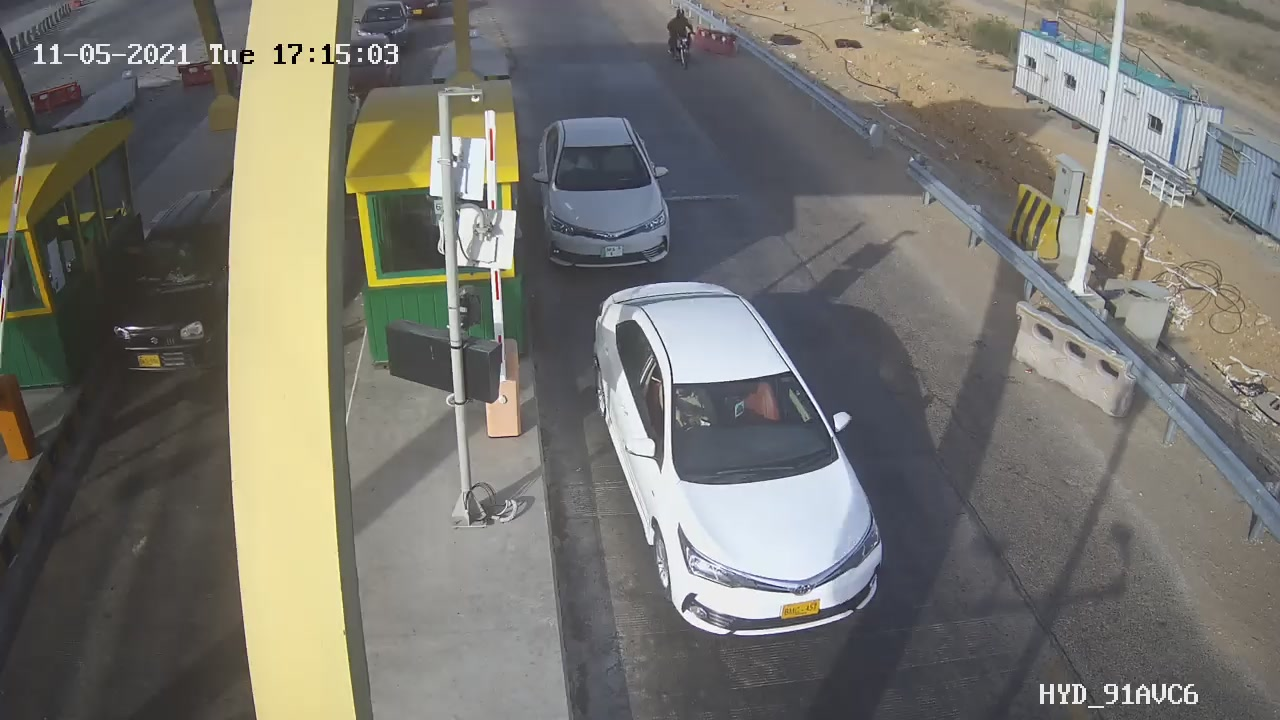F1: (521, 98, 692, 287)
